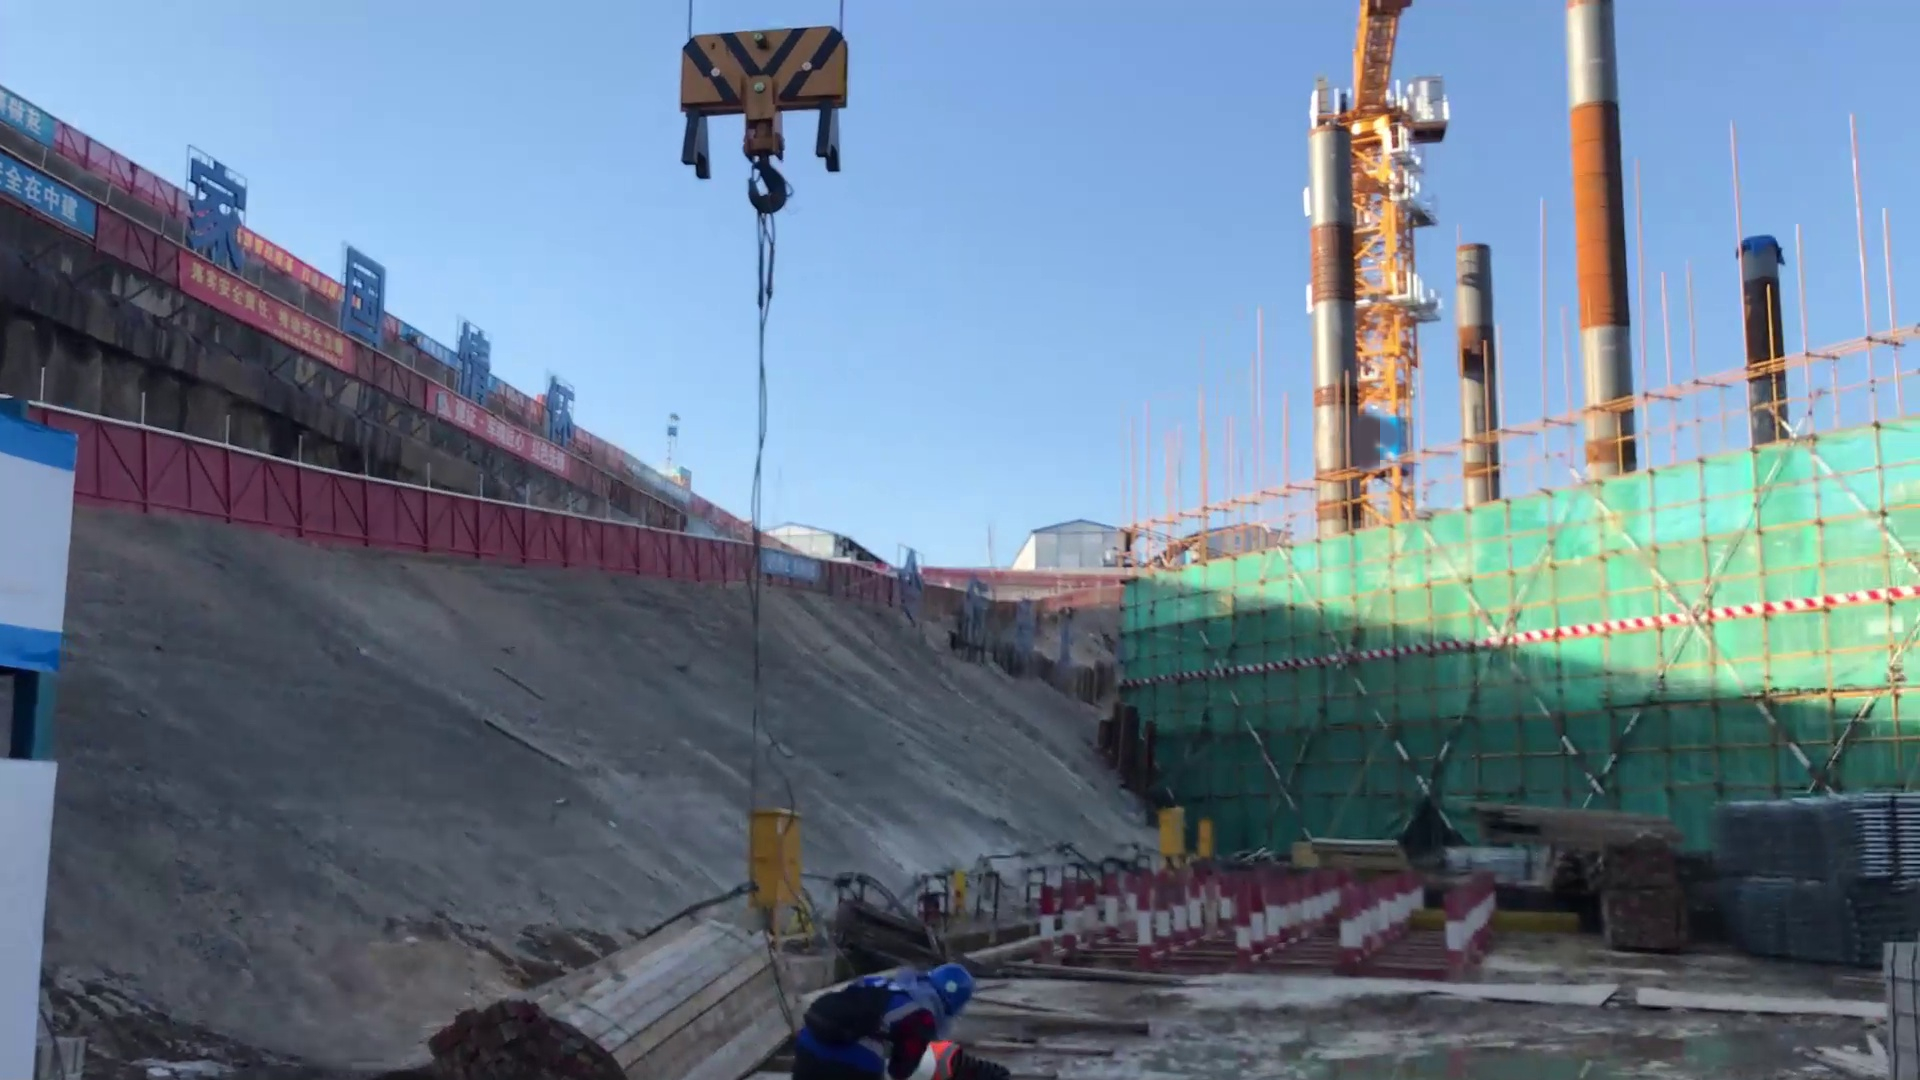ebox: (730, 757, 796, 950), (1153, 810, 1182, 861), (1195, 818, 1213, 861)
fence: (68, 430, 449, 564), (446, 492, 749, 601)
helmet: (930, 959, 984, 1018)
hook: (667, 32, 843, 181)
person: (785, 950, 975, 1075)
scaffold: (1697, 783, 1920, 891), (1738, 864, 1920, 970)
slogan: (148, 230, 349, 387)
wood: (445, 913, 780, 1080)
